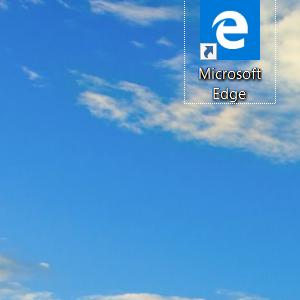edge: (200, 1, 260, 60)
